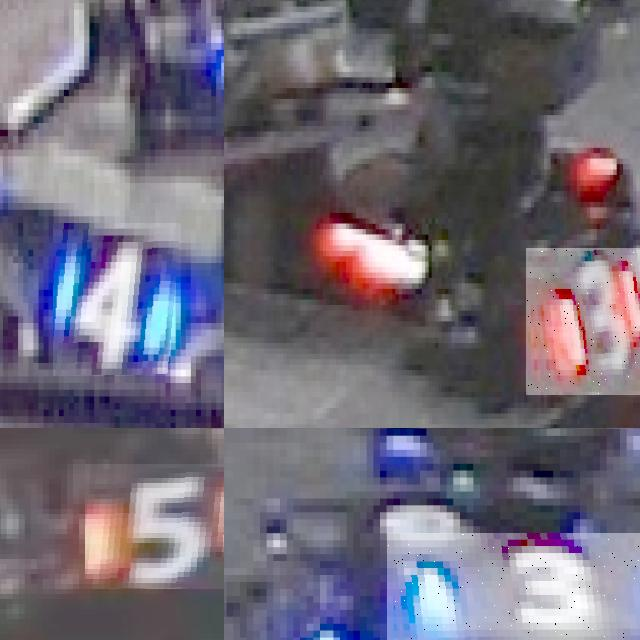B3: (386, 533, 640, 640)
B4: (53, 223, 181, 376)
R3: (526, 248, 640, 394)
R5: (85, 464, 224, 589)
